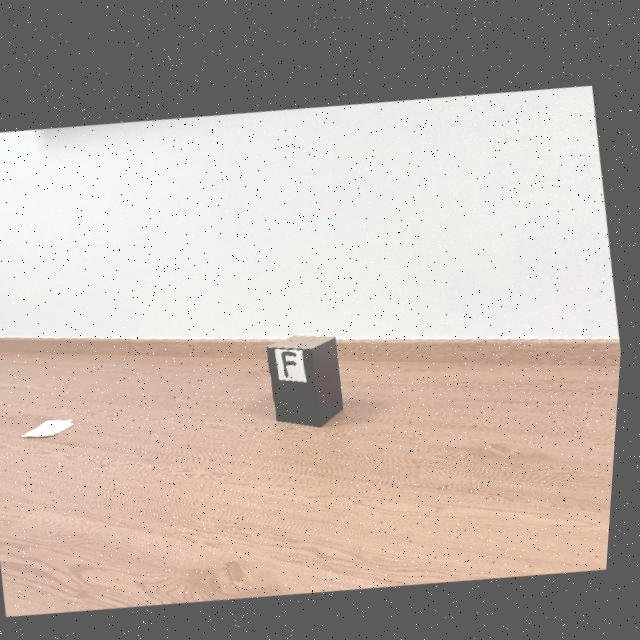F: (286, 344, 301, 370)
